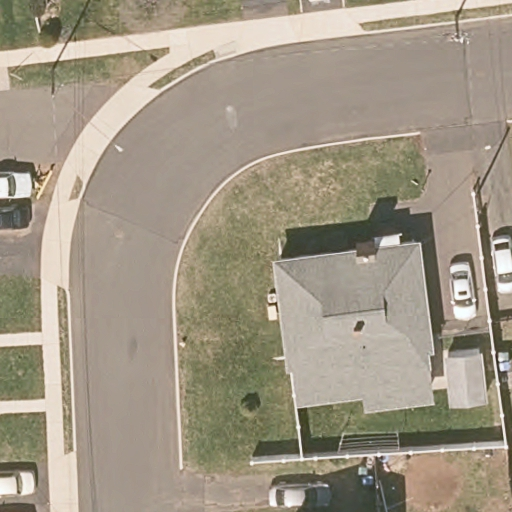DT: (445, 14, 469, 47), (47, 67, 67, 104)
